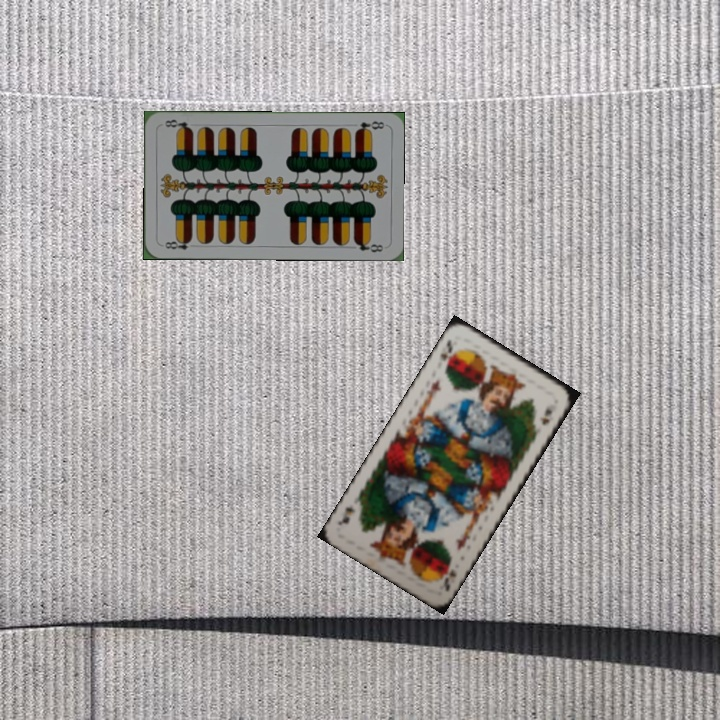E8: (158, 235, 199, 252), (351, 117, 387, 135)
SK: (436, 335, 459, 373), (437, 558, 460, 594)
